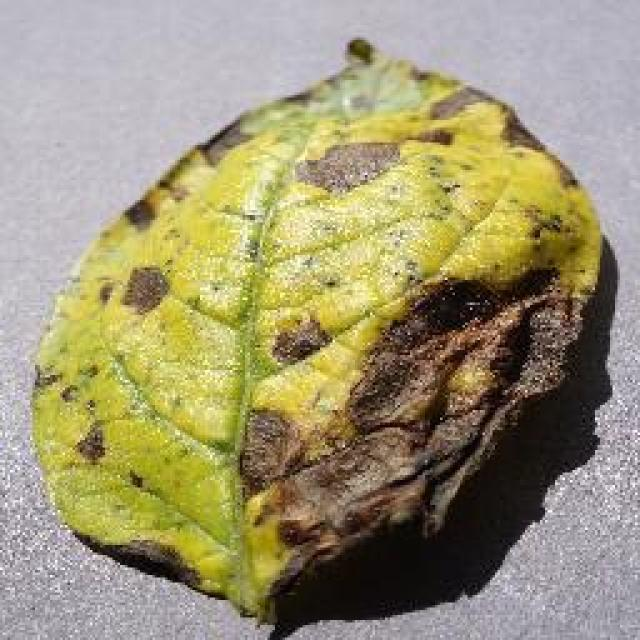early_blight: (25, 32, 607, 628)
